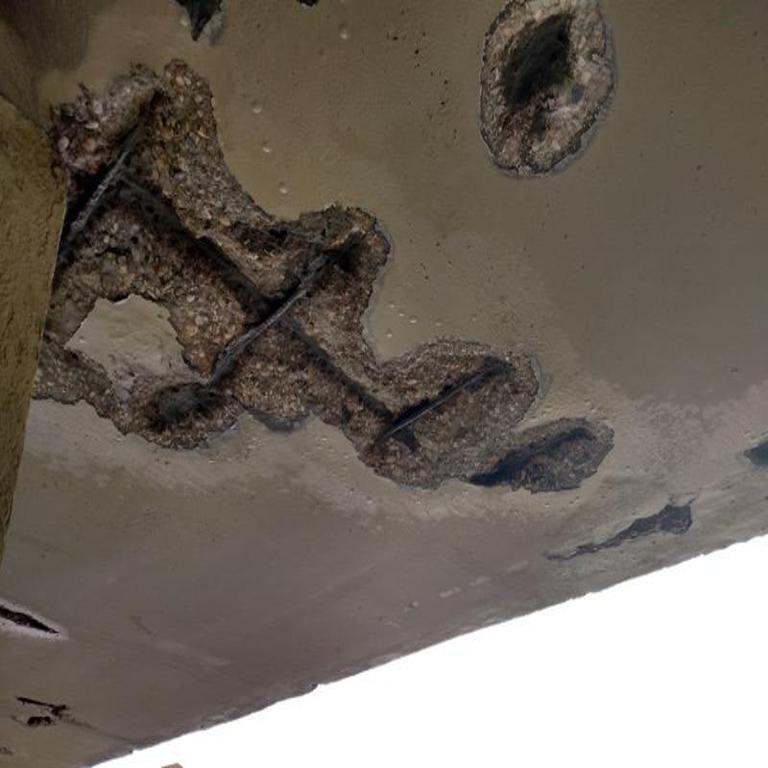exposed_rebar: (60, 120, 336, 388), (337, 360, 504, 456), (470, 428, 588, 485), (501, 15, 570, 110)
spalling: (46, 62, 612, 490), (480, 0, 615, 176), (33, 335, 243, 448)
